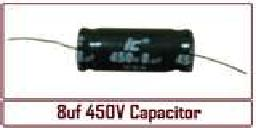Electrolytic-Capacitor: (11, 22, 249, 82)
